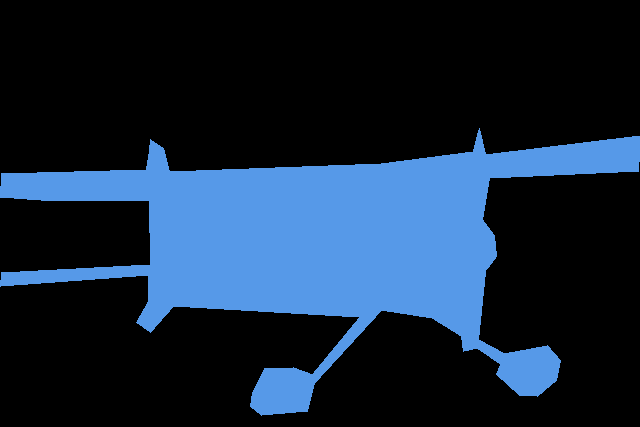Airplane: (0, 128, 640, 415)
